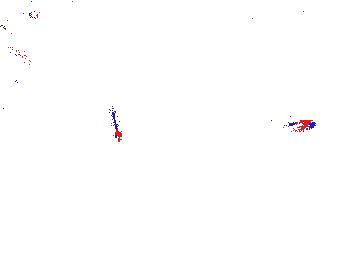X-ray fish: (1, 156, 60, 195)
red belly glassfish: (267, 117, 317, 135), (109, 107, 126, 145)
redtail glassfish: (1, 5, 46, 31)
